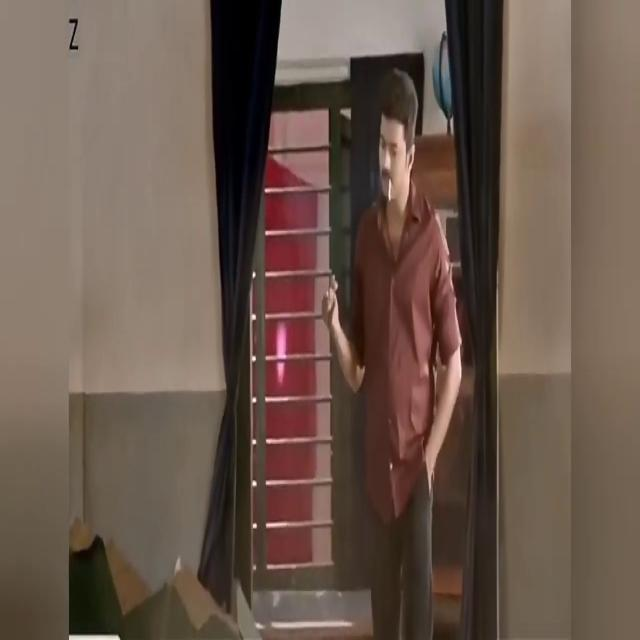smoking: (366, 178, 408, 198)
